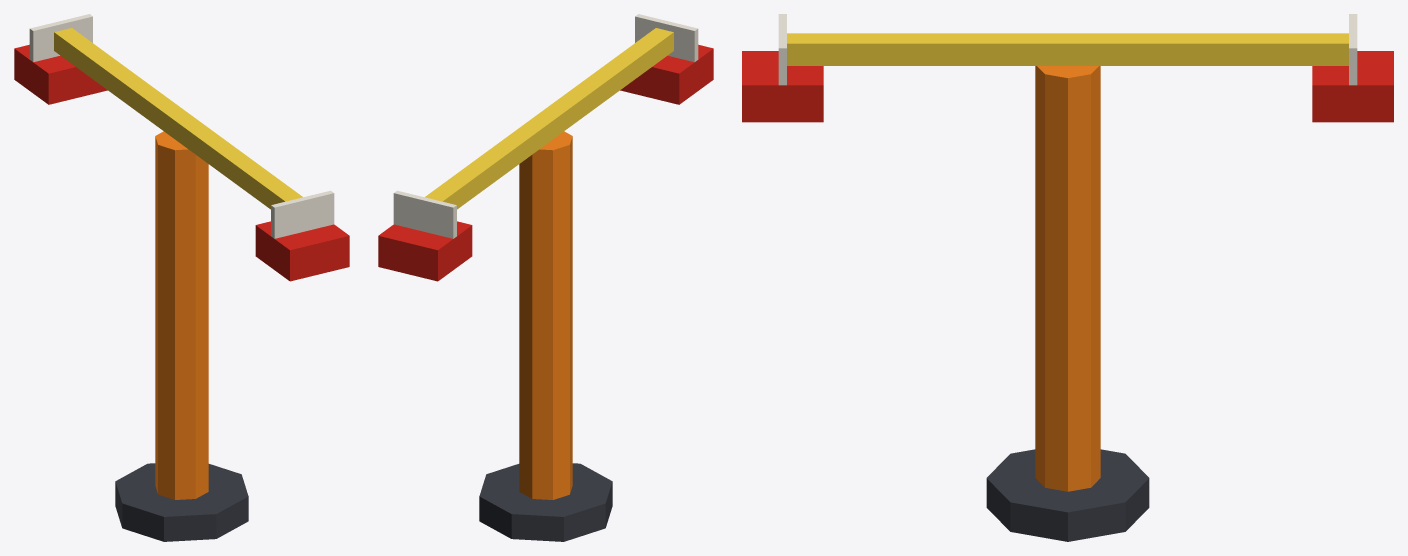
The model's file is free_fall_arm_ride.glb.
3 views of the same model, side by side, from view 1: azimuth 30°, elevation 25°; view 2: azimuth 150°, elevation 25°; view 3: azimuth 270°, elevation 25° (orthographic). The views are drawn at different scales.
Parts seen in each view (by area): view 1: free_fall_arm_ride; view 2: free_fall_arm_ride; view 3: free_fall_arm_ride.
Part boxes in pixels (box(x1,y1,x2,y2)): free_fall_arm_ride: box(14, 14, 349, 541); free_fall_arm_ride: box(378, 14, 713, 541); free_fall_arm_ride: box(742, 14, 1393, 541).
Bounding box in the file's own units: 2 × 6.45 × 8.
